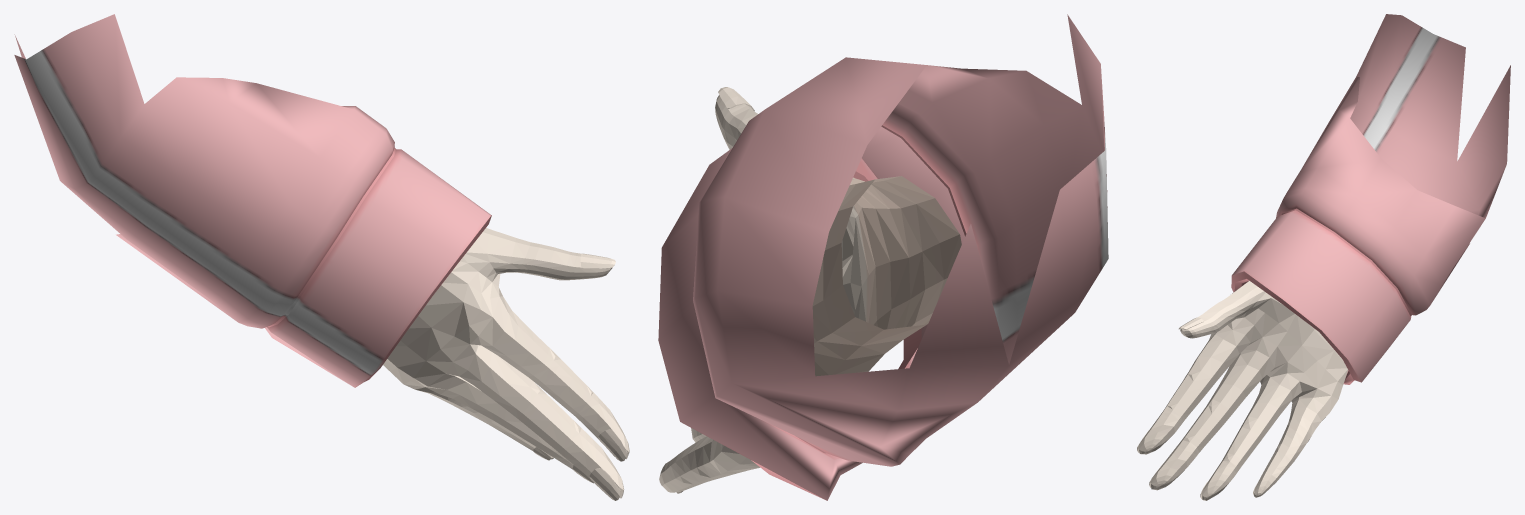
The model's file is HitoriPick.obj.
3 views of the same model, side by side, from view 1: azimuth 30°, elevation 25°; view 2: azimuth 150°, elevation 25°; view 3: azimuth 270°, elevation 25° (orthographic). The views are drawn at different scales.
Size of the model in its own units: 0.3114 by 0.3294 by 0.3148.
2 materials, 2 textured.
